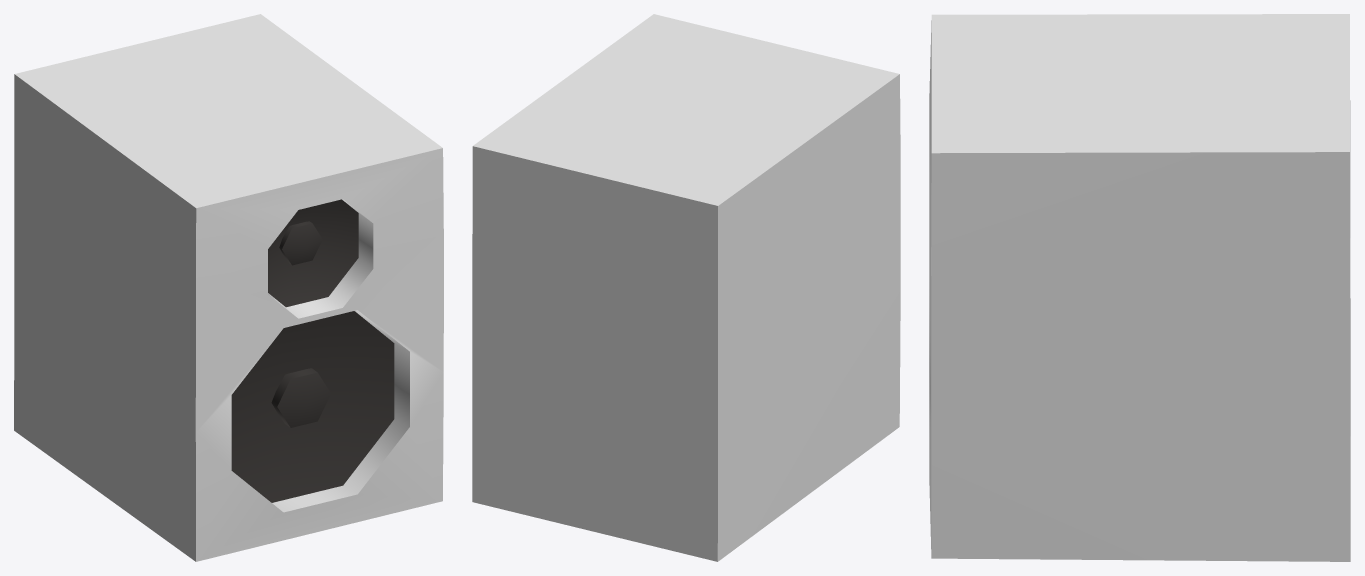
Rendered from speaker.FBX.
The picture shows the model from 3 angles, left to right: view 1: azimuth 30°, elevation 25°; view 2: azimuth 150°, elevation 25°; view 3: azimuth 270°, elevation 25°; orthographic projection. The views are drawn at different scales.
Parts seen in each view (by area): view 1: speaker; view 2: speaker; view 3: speaker.
Part boxes in pixels (<box>): speaker: <box>14,14,443,561</box>; speaker: <box>472,14,900,561</box>; speaker: <box>929,14,1350,561</box>.
Bounding box in the file's own units: 7.29 × 10.03 × 9.34.
Materials: 1 (1 with a texture image).
